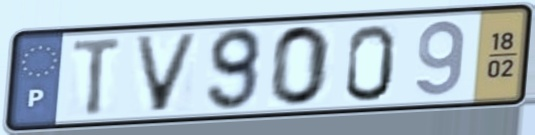0: (265, 23, 339, 109), (343, 21, 400, 104)
9: (201, 24, 263, 115), (412, 17, 469, 101)
T: (69, 34, 126, 119)
V: (130, 31, 204, 115)
